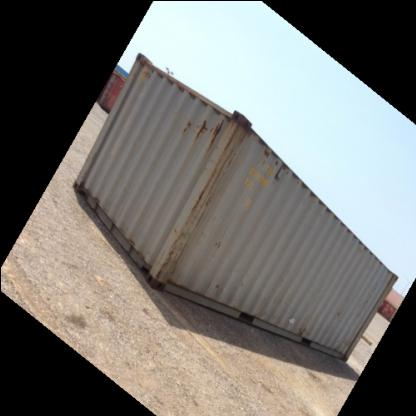Damage: (154, 187, 208, 275), (174, 114, 224, 143), (228, 119, 252, 163), (134, 56, 158, 77), (330, 294, 347, 320), (292, 320, 316, 338), (259, 154, 283, 168), (210, 277, 226, 291), (214, 231, 226, 249)
